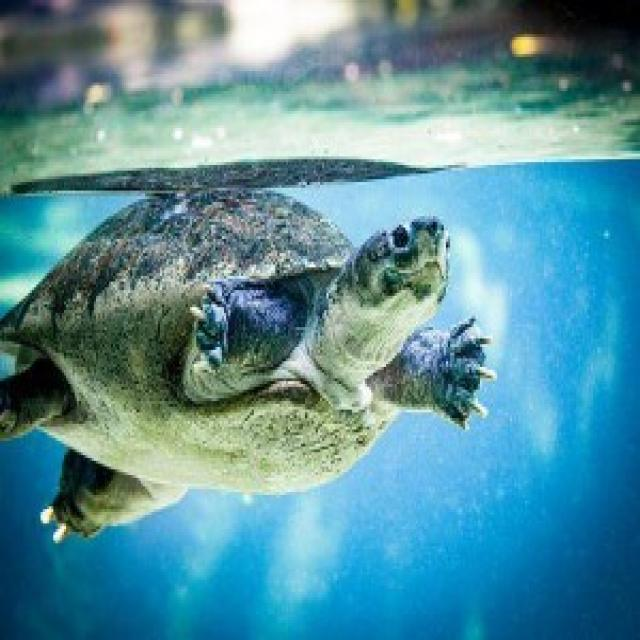Sea turtle: (0, 172, 494, 580)
